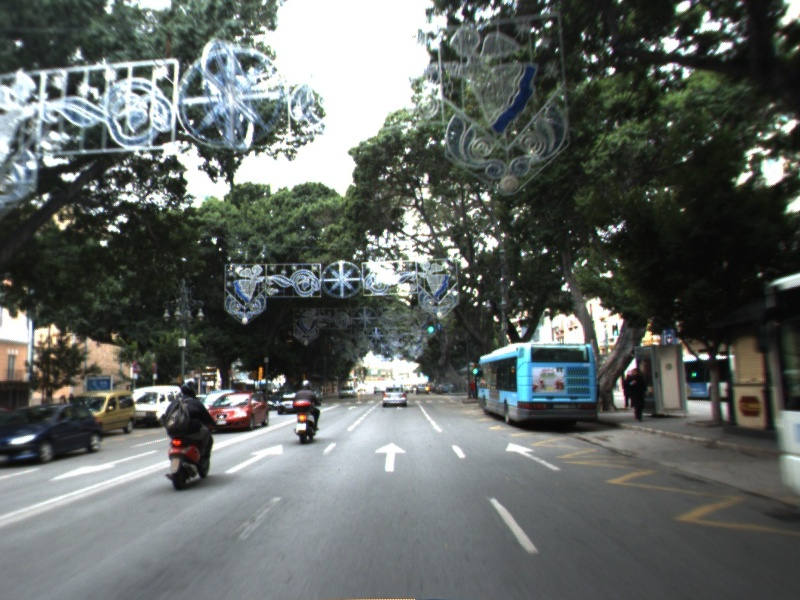STRAIGHT: (223, 442, 284, 476), (503, 440, 564, 473), (373, 440, 409, 473)
